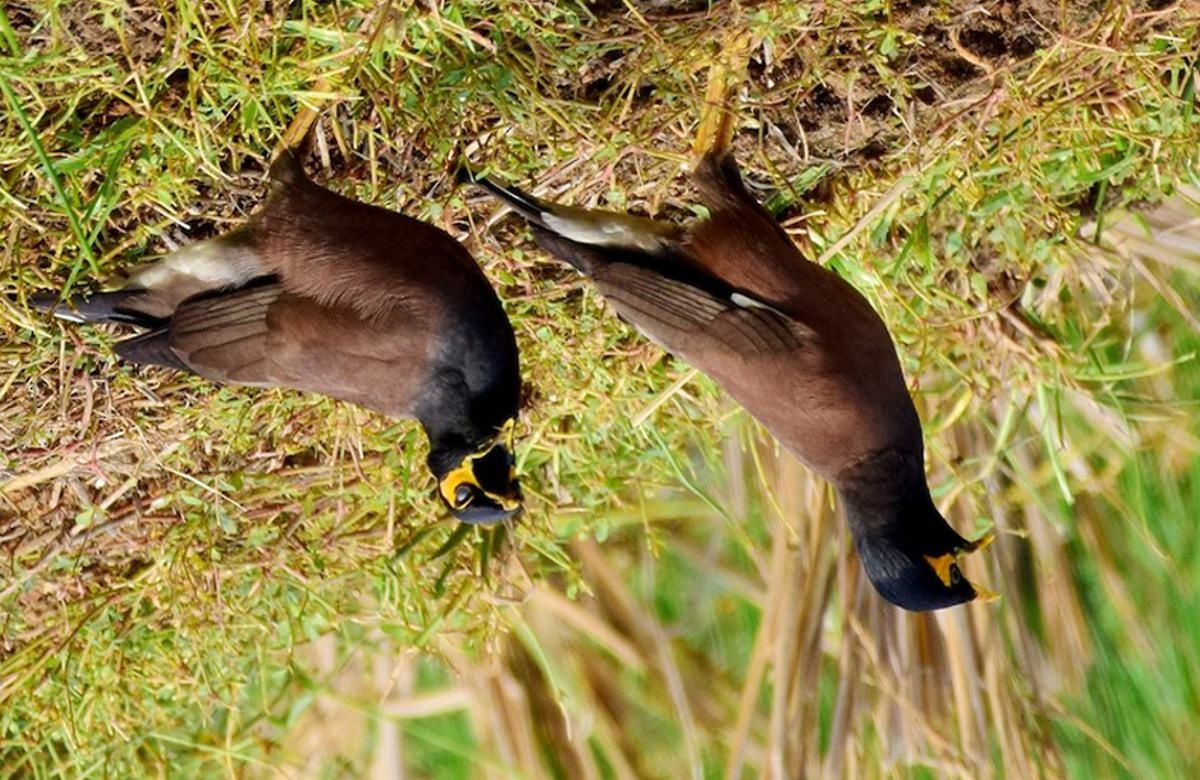myna: (586, 152, 1015, 644), (160, 172, 560, 546)
